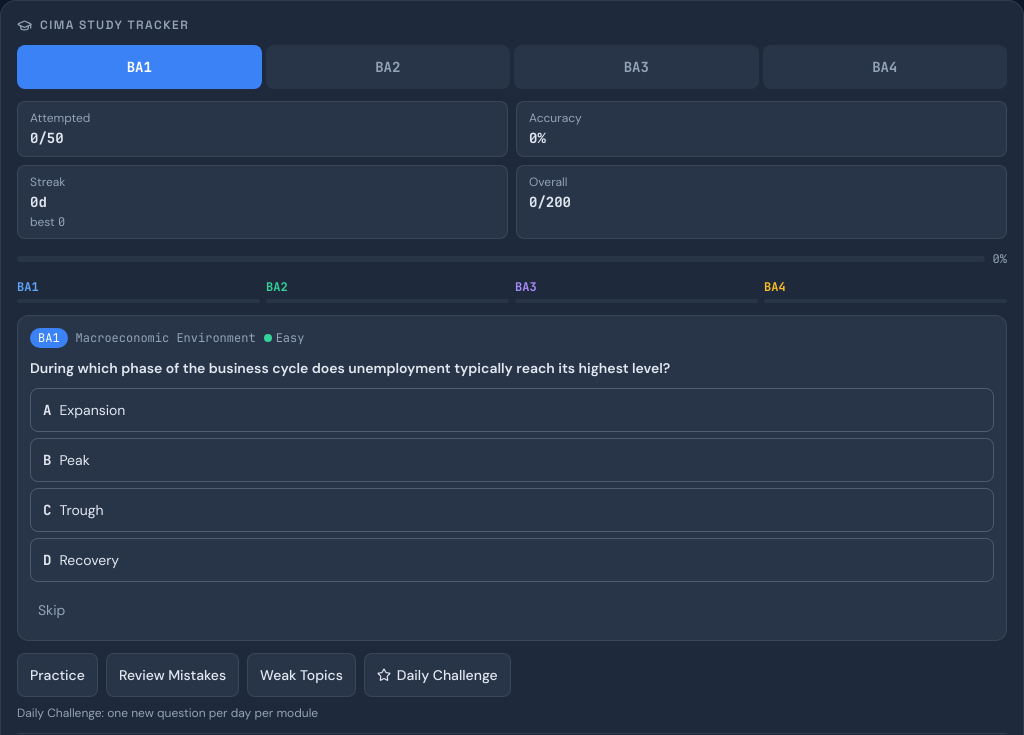
Test: CimaWidget spaced repetition › review mode prefers due entries over not-yet-due ones
Check: the text "During which phase of the business cycle does unemployment typically reach its highest level?" is shown, box top-left (30, 359), bottom-right (670, 377)
Click the button "Review Mistakes" at (172, 675), box top-left (106, 653), bottom-right (239, 697)
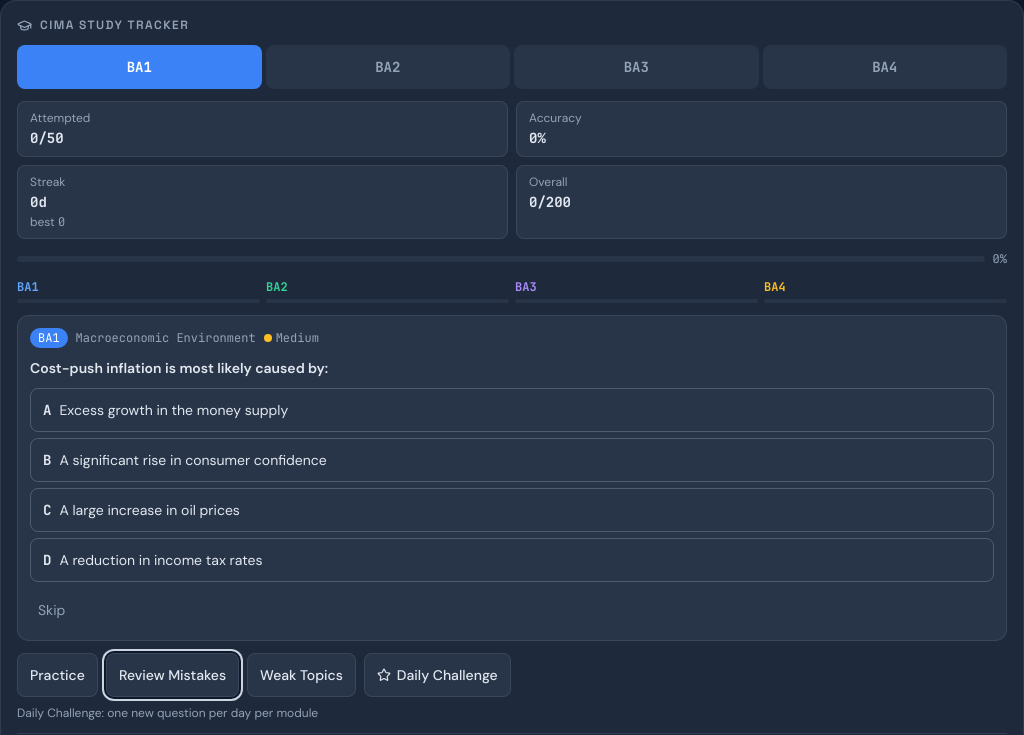
Check: the text "Cost-push inflation is most likely caused by:" is shown, box top-left (30, 359), bottom-right (328, 377)
Check: the text "During which phase of the business cycle does unemployment typically reach its highest level?" is gone
